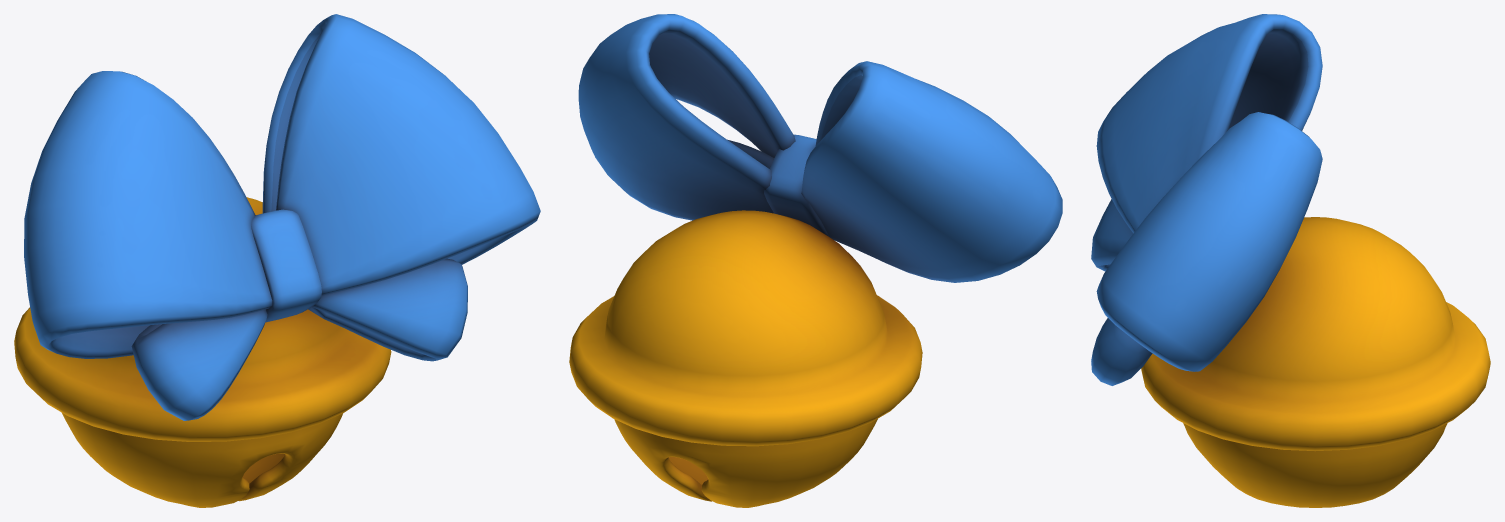
The model's file is qizi_11.FBX.
3 renders of one model, left to right at view 1: azimuth 30°, elevation 25°; view 2: azimuth 150°, elevation 25°; view 3: azimuth 270°, elevation 25°, orthographic. The views are drawn at different scales.
Parts seen in each view (by area): view 1: qizi_11; view 2: qizi_11; view 3: qizi_11.
Part boxes in pixels (x1,y1,x2,y2): qizi_11: (14, 14, 540, 507); qizi_11: (569, 14, 1062, 507); qizi_11: (1091, 14, 1490, 507).
Bounding box in the file's own units: 112 × 101 × 84.84.
1 material, 1 textured.
